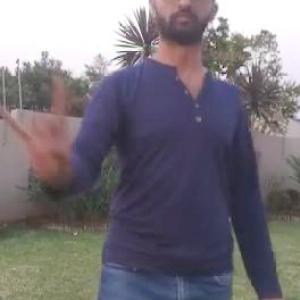takeoff-hand: (0, 85, 83, 182)
